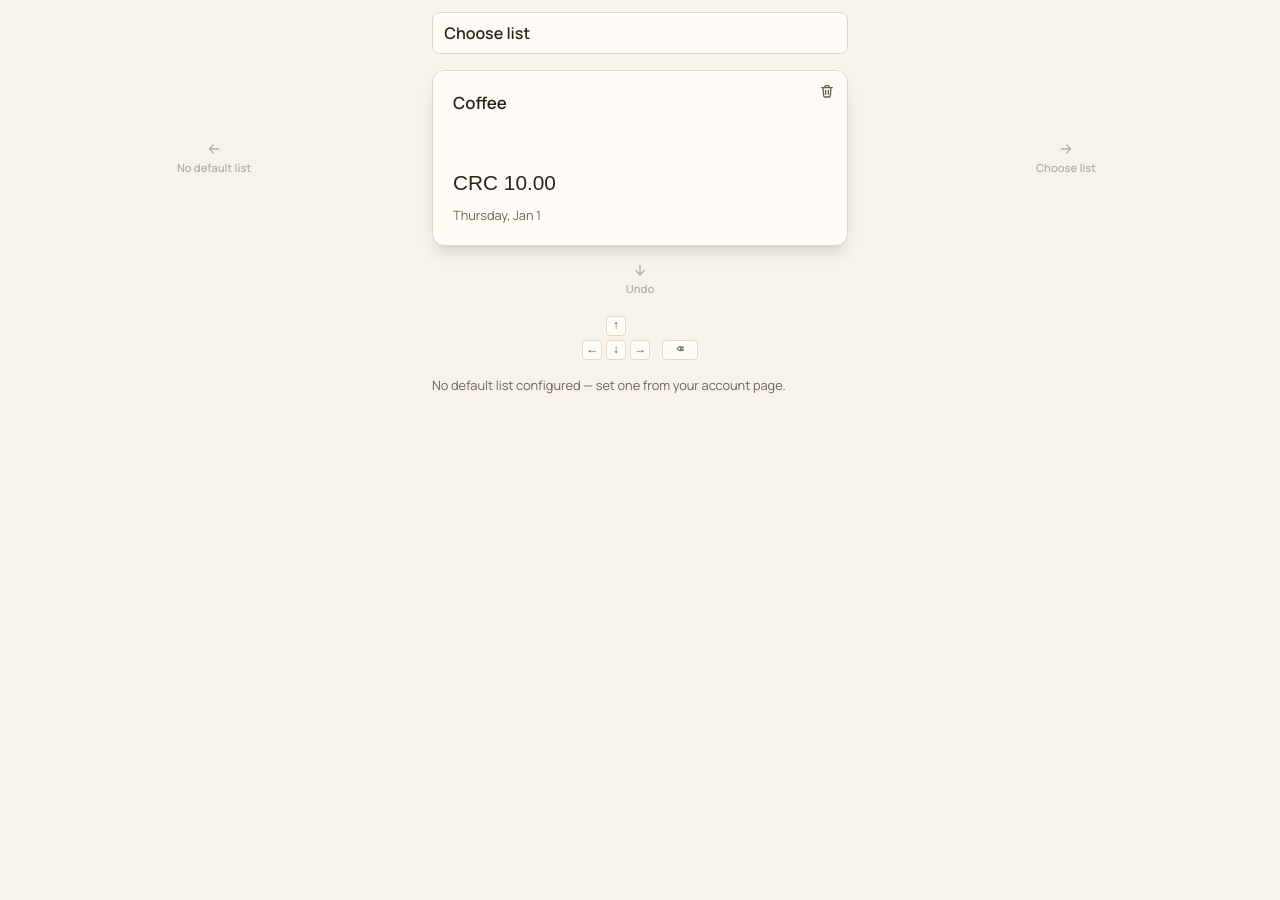
Scenario: IndividualReviewPanel › last-row resolution does not redirect and shows the interim placeholder
This screenshot has width=1280, height=900.
Step 1. Click the 1st button "Choose list" → coordinates (487, 33), box x1=432 y1=12 x2=848 y2=54
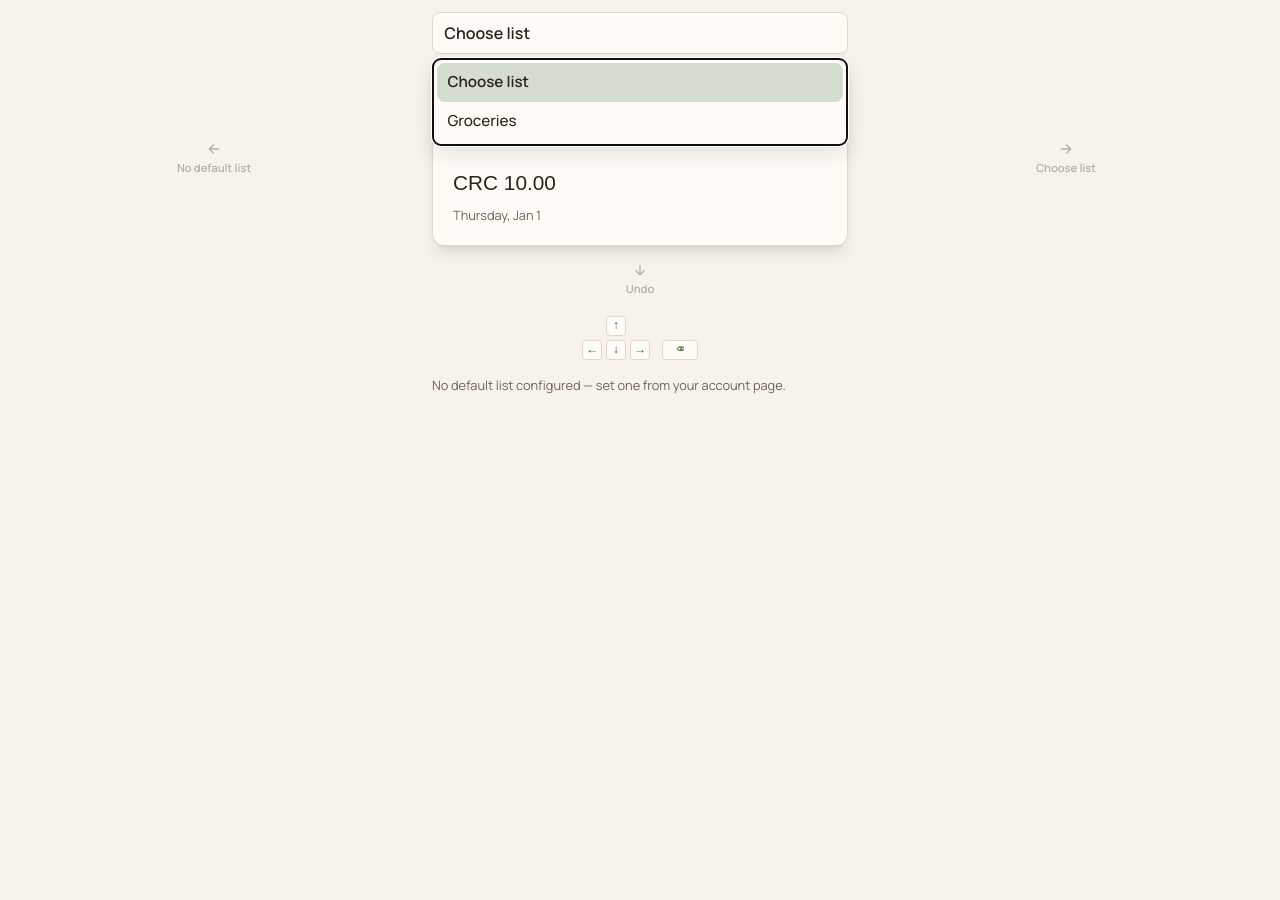
Step 2. Press the mouse on the option "Groceries" → coordinates (482, 120), box x1=447 y1=110 x2=517 y2=131
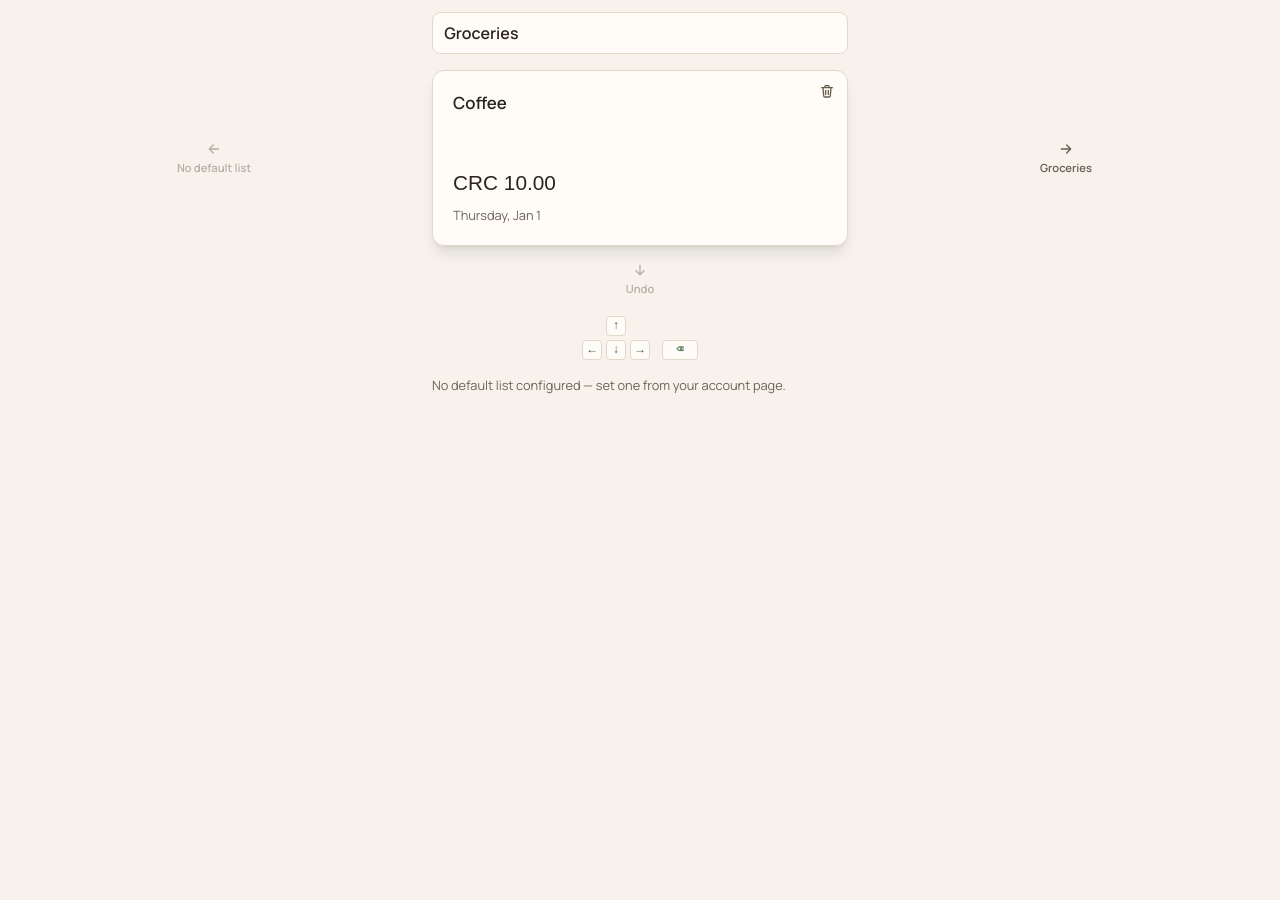
Step 3. Click the button "Groceries" in the row of "CRC 10.00" → coordinates (1066, 158), box x1=860 y1=137 x2=1272 y2=179
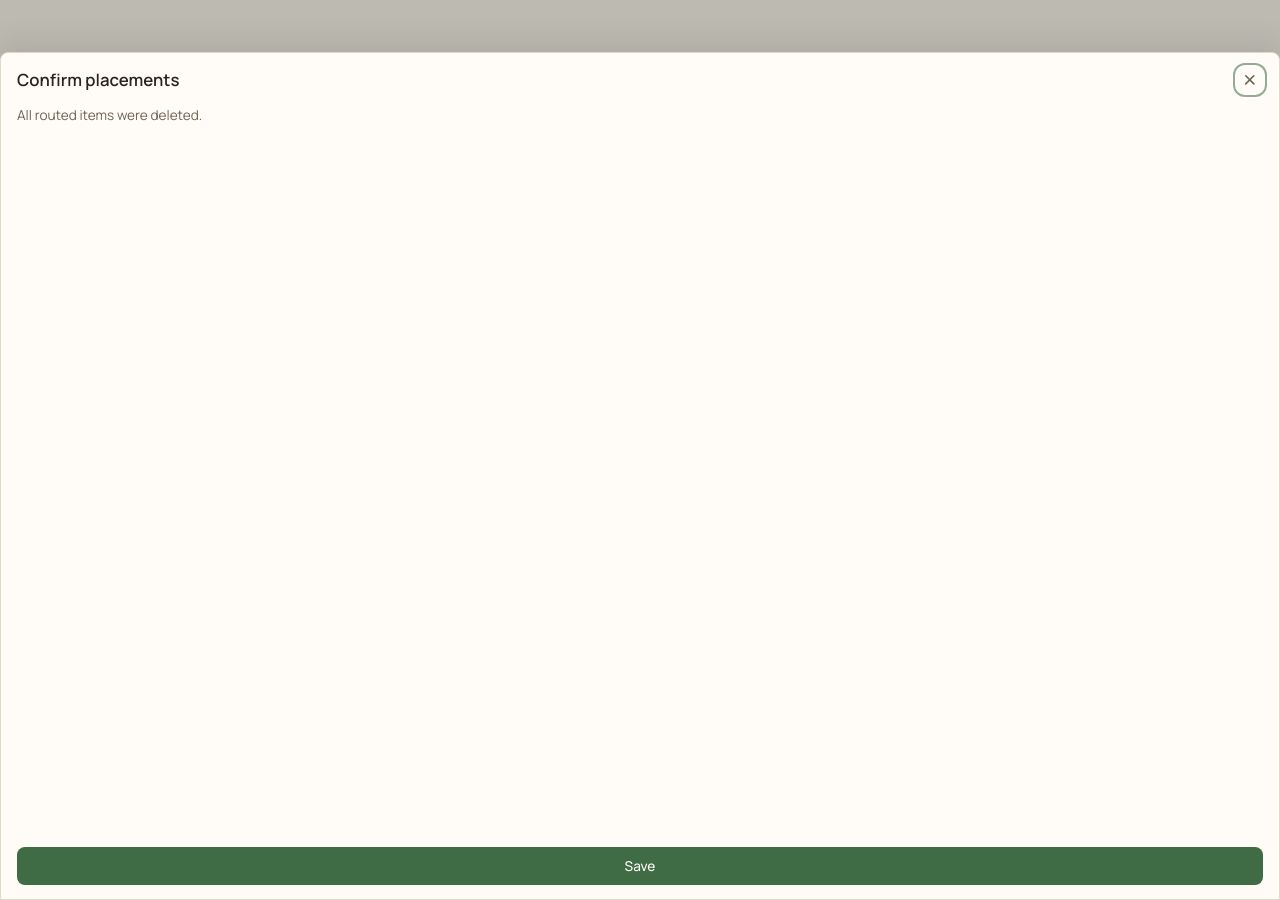
Expected: the button "Save" is shown, x1=17 y1=847 x2=1263 y2=885
Expected: the text "Confirm placements" is shown, x1=17 y1=68 x2=180 y2=91
